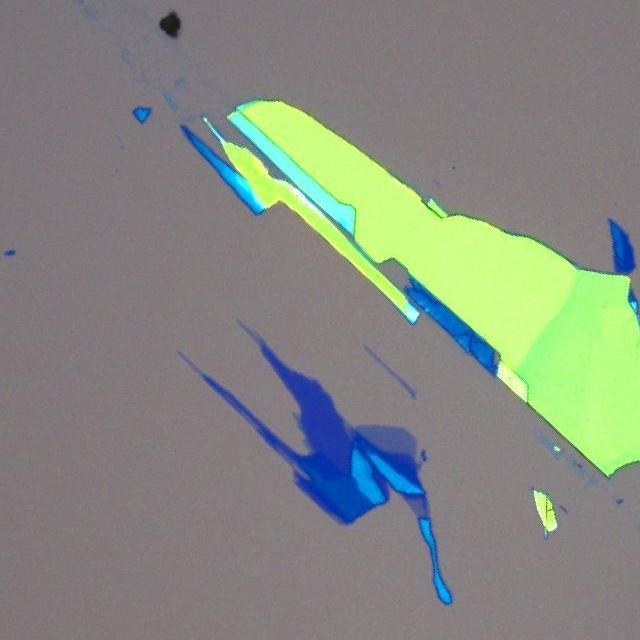monolayer-eWW4: (362, 342, 418, 401), (354, 422, 416, 454), (409, 497, 431, 516), (292, 412, 304, 430), (329, 514, 344, 526), (301, 438, 313, 453)
